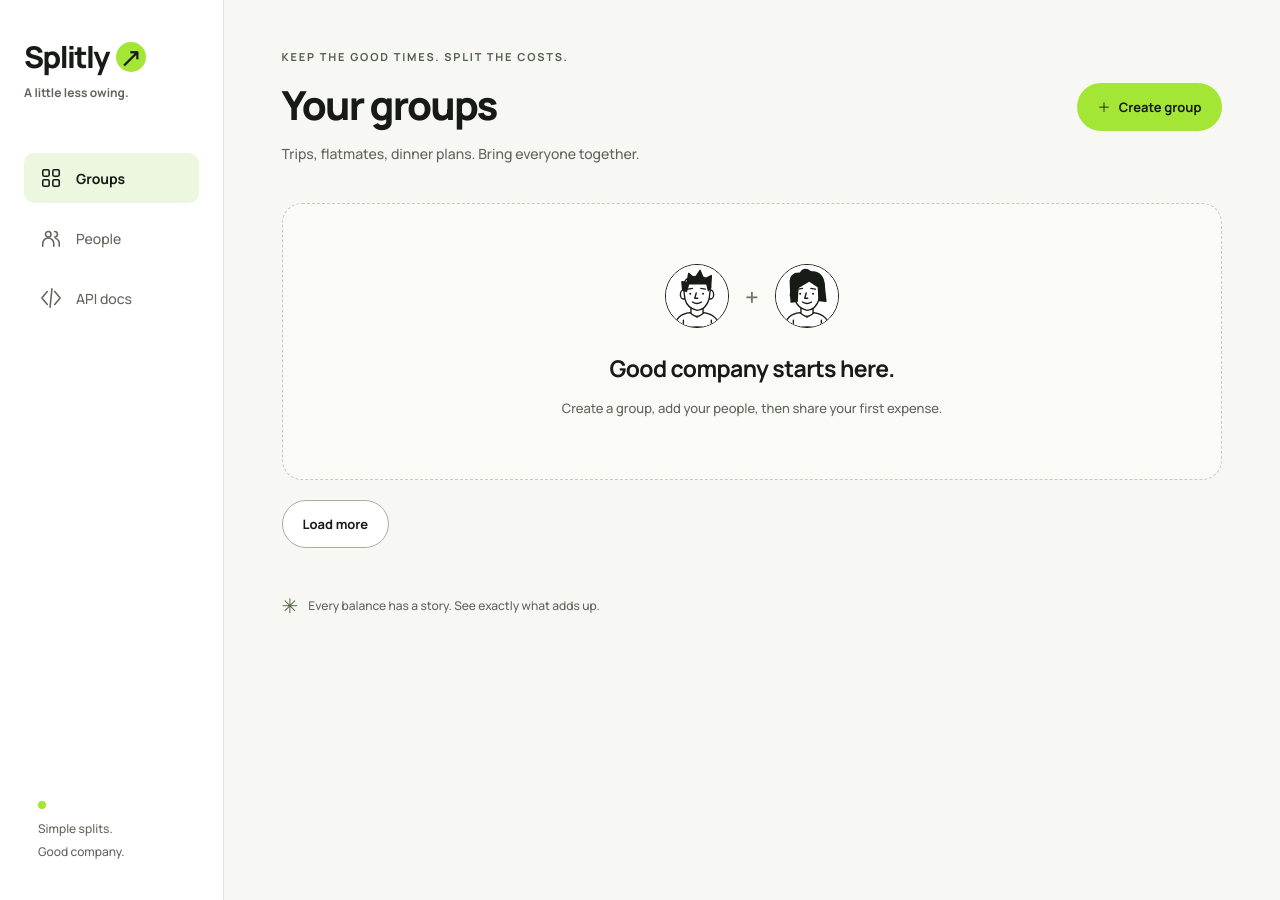
creates a group from the direct groups screen and opens members
Click the button "＋ Create group": (1150,107) [1077, 83, 1222, 131]
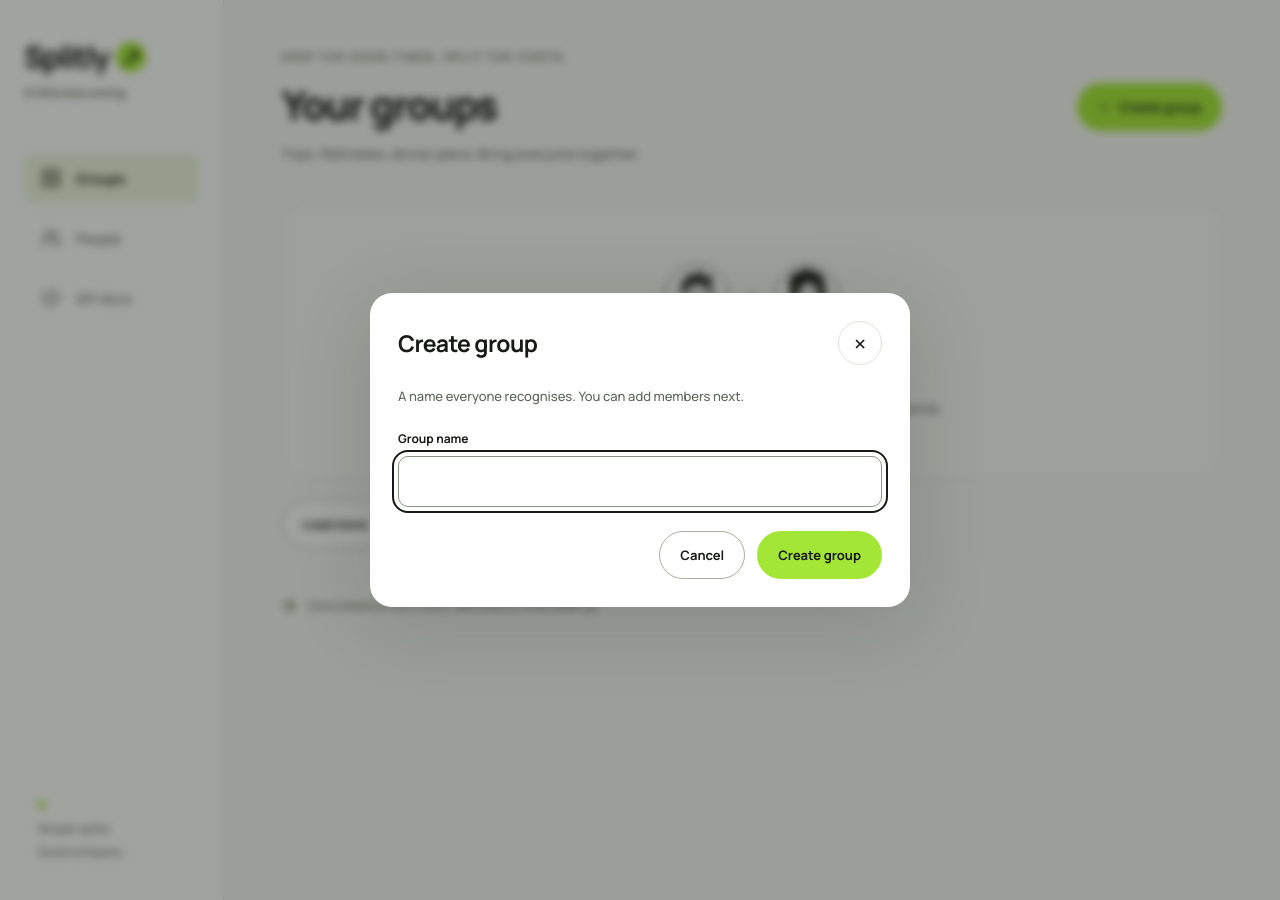
In the field labelled "Group name": (640,482) [398, 456, 882, 507], type "Weekend"
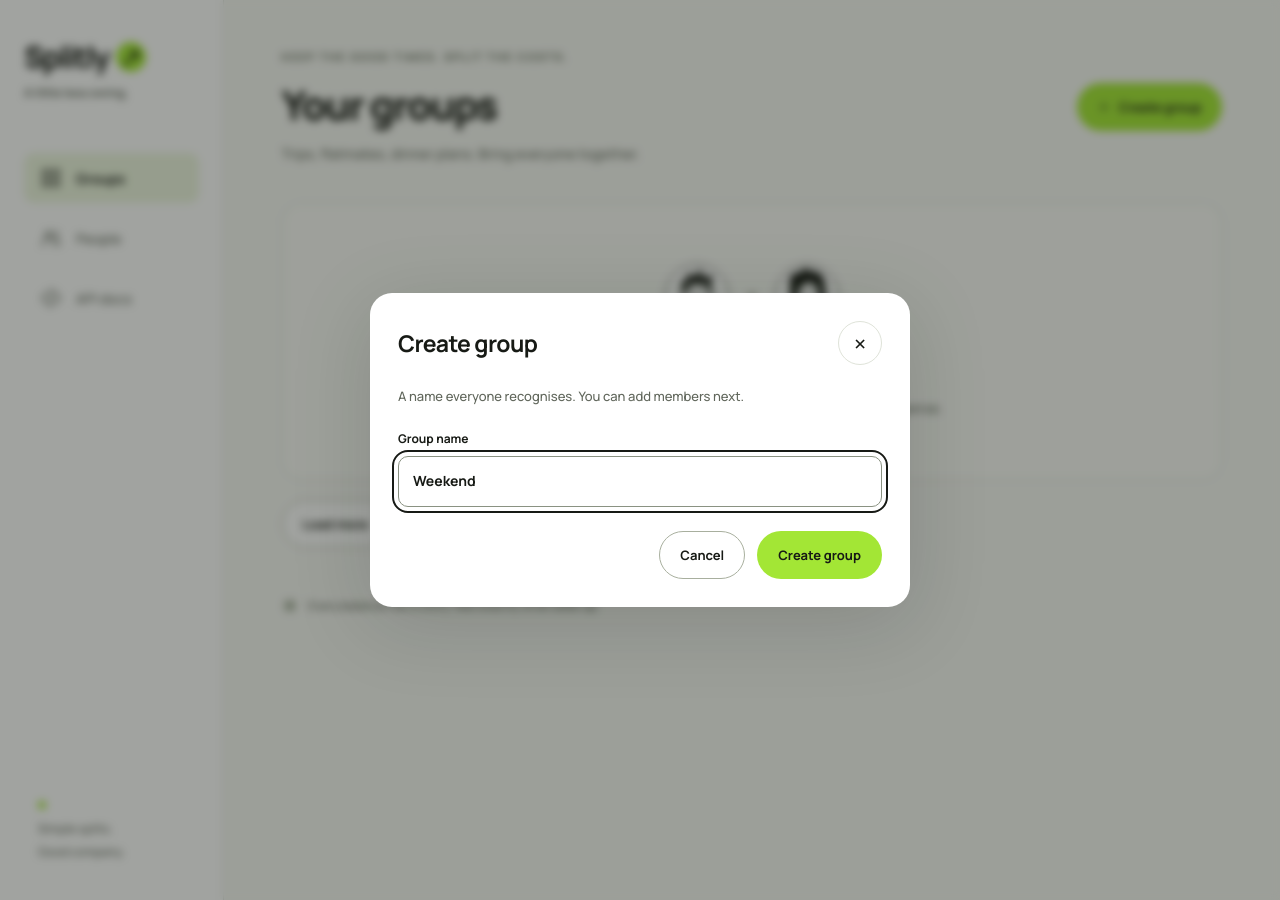
Click the button "Create group": (820,555) [757, 531, 882, 579]
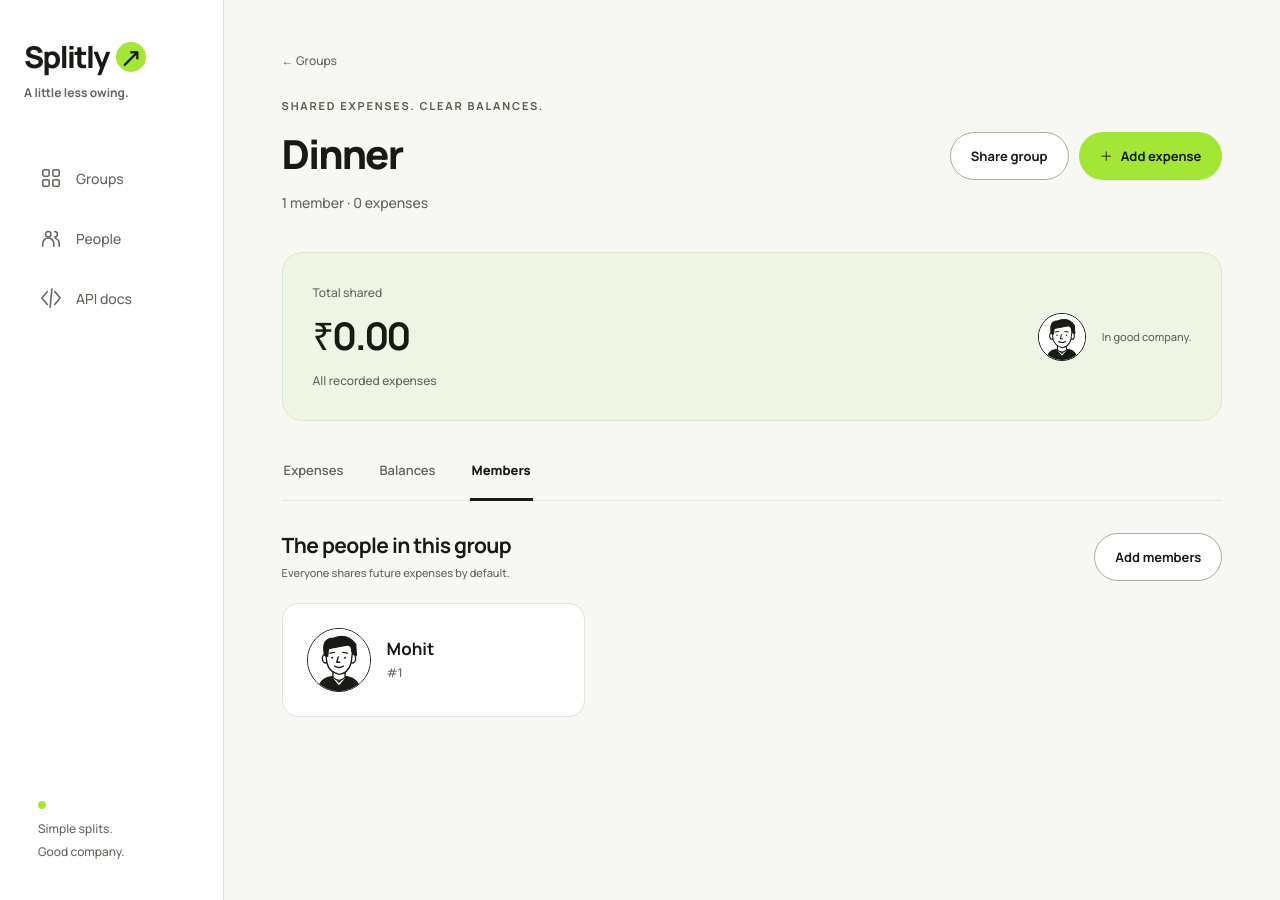
Check: the button "Add members" is shown, box [1094, 533, 1222, 581]
